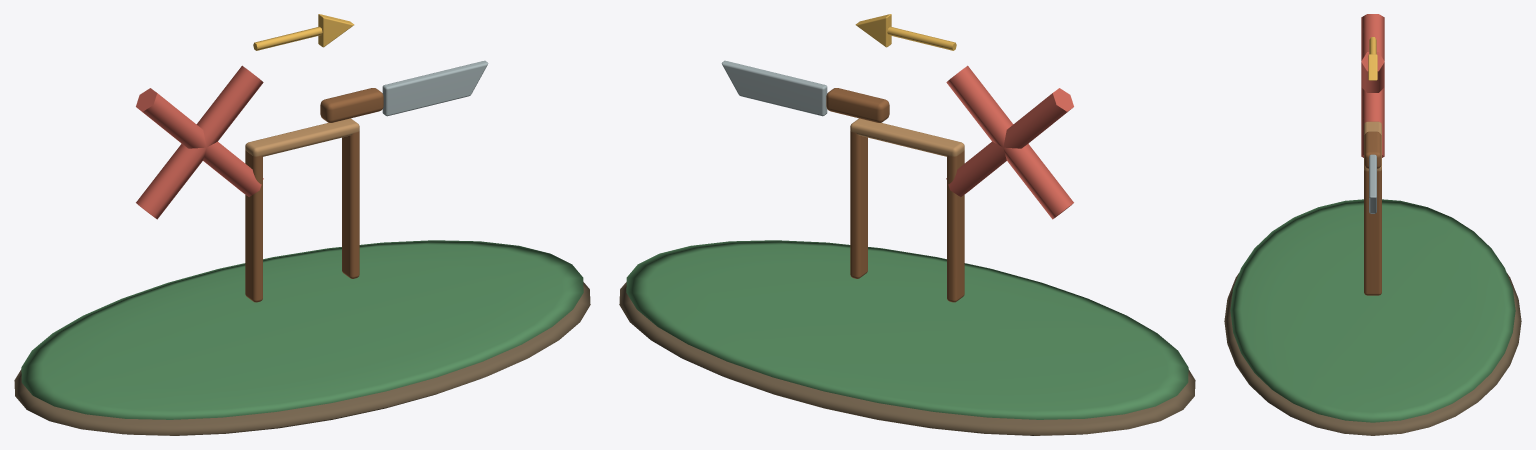
File: complete-second-no-rule-otherwise.glb
The picture shows the model from 3 angles, left to right: view 1: azimuth 30°, elevation 25°; view 2: azimuth 150°, elevation 25°; view 3: azimuth 270°, elevation 25°; orthographic projection. The views are drawn at different scales.
Visible parts, largest first — view 1: complete-second-no-rule-otherwise_surface_01, complete-second-no-rule-otherwise_surface_00, complete-second-no-rule-otherwise_surface_02, complete-second-no-rule-otherwise_surface_03, complete-second-no-rule-otherwise_surface_04, complete-second-no-rule-otherwise_surface_05, complete-second-no-rule-otherwise_surface_06; view 2: complete-second-no-rule-otherwise_surface_01, complete-second-no-rule-otherwise_surface_00, complete-second-no-rule-otherwise_surface_02, complete-second-no-rule-otherwise_surface_03, complete-second-no-rule-otherwise_surface_04, complete-second-no-rule-otherwise_surface_05, complete-second-no-rule-otherwise_surface_06; view 3: complete-second-no-rule-otherwise_surface_01, complete-second-no-rule-otherwise_surface_00, complete-second-no-rule-otherwise_surface_02, complete-second-no-rule-otherwise_surface_03, complete-second-no-rule-otherwise_surface_04, complete-second-no-rule-otherwise_surface_06, complete-second-no-rule-otherwise_surface_05.
Boxes of the visible parts, x1,y1,x2,y2 form: complete-second-no-rule-otherwise_surface_01: (21, 240, 583, 419); complete-second-no-rule-otherwise_surface_00: (14, 282, 590, 435); complete-second-no-rule-otherwise_surface_02: (136, 65, 263, 219); complete-second-no-rule-otherwise_surface_03: (245, 88, 383, 302); complete-second-no-rule-otherwise_surface_04: (382, 60, 488, 116); complete-second-no-rule-otherwise_surface_05: (245, 118, 359, 156); complete-second-no-rule-otherwise_surface_06: (253, 14, 354, 50); complete-second-no-rule-otherwise_surface_01: (626, 240, 1188, 419); complete-second-no-rule-otherwise_surface_00: (619, 282, 1195, 435); complete-second-no-rule-otherwise_surface_02: (946, 65, 1073, 219); complete-second-no-rule-otherwise_surface_03: (826, 88, 964, 302); complete-second-no-rule-otherwise_surface_04: (721, 60, 827, 116); complete-second-no-rule-otherwise_surface_05: (850, 118, 964, 156); complete-second-no-rule-otherwise_surface_06: (855, 14, 956, 50); complete-second-no-rule-otherwise_surface_01: (1230, 199, 1515, 422); complete-second-no-rule-otherwise_surface_00: (1224, 273, 1521, 435); complete-second-no-rule-otherwise_surface_02: (1361, 14, 1384, 157); complete-second-no-rule-otherwise_surface_03: (1364, 131, 1381, 295); complete-second-no-rule-otherwise_surface_04: (1369, 154, 1376, 213); complete-second-no-rule-otherwise_surface_06: (1368, 37, 1377, 80); complete-second-no-rule-otherwise_surface_05: (1364, 121, 1381, 171).
Size of the model in its own units: 4.56 by 2.68 by 2.5.
